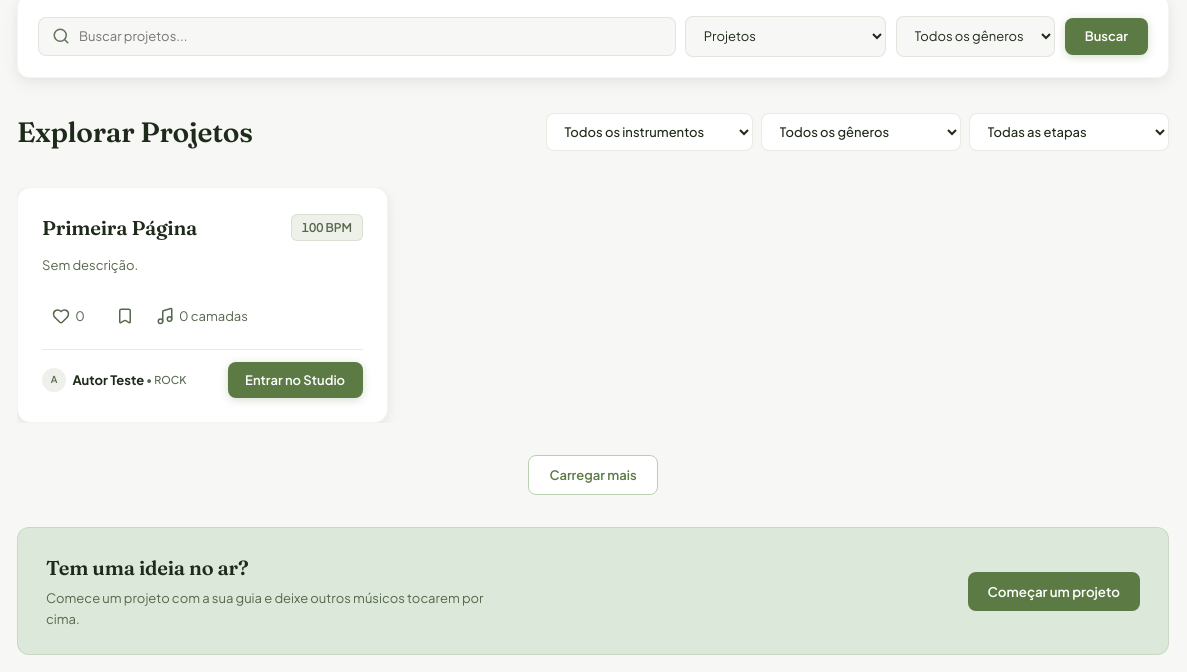
Test: Feed › "Carregar mais" acrescenta a próxima página
This screenshot has width=1187, height=672.
Check: the link "Primeira Página" is shown, box x1=42 y1=215 x2=197 y2=240
Step 1. Click the button "Carregar mais" → point(593, 475), box x1=528 y1=455 x2=658 y2=495
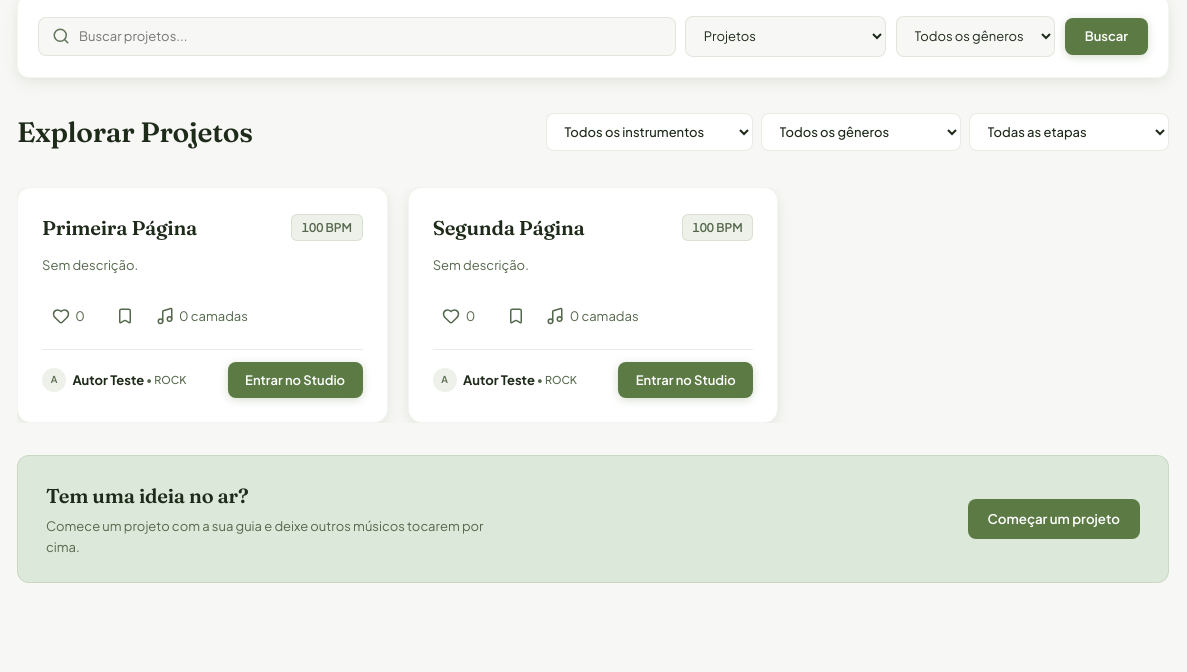
Check: the link "Primeira Página" is shown, box x1=42 y1=215 x2=197 y2=240
Check: the link "Segunda Página" is shown, box x1=433 y1=215 x2=585 y2=240
Check: the button "Carregar mais" is gone
